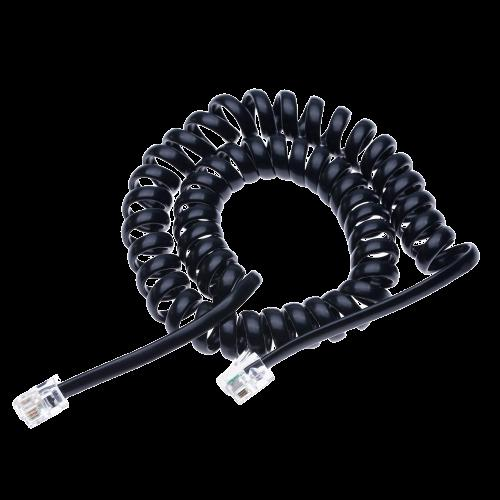cable: (11, 88, 482, 431)
